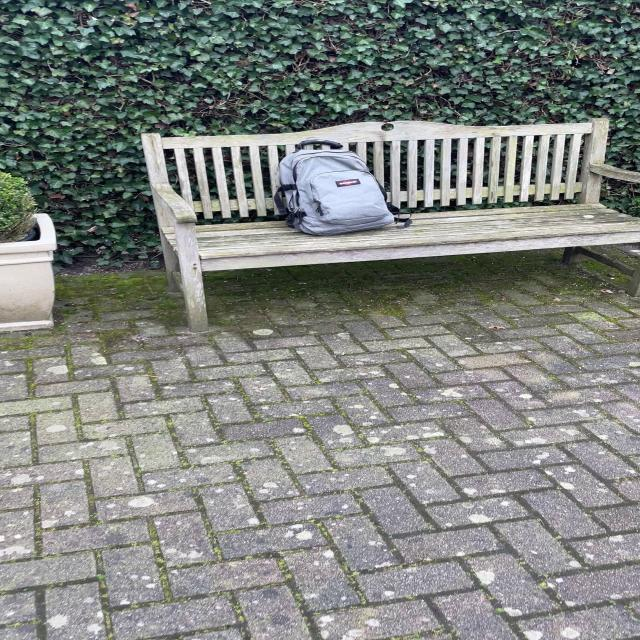backpack: (268, 138, 402, 238)
